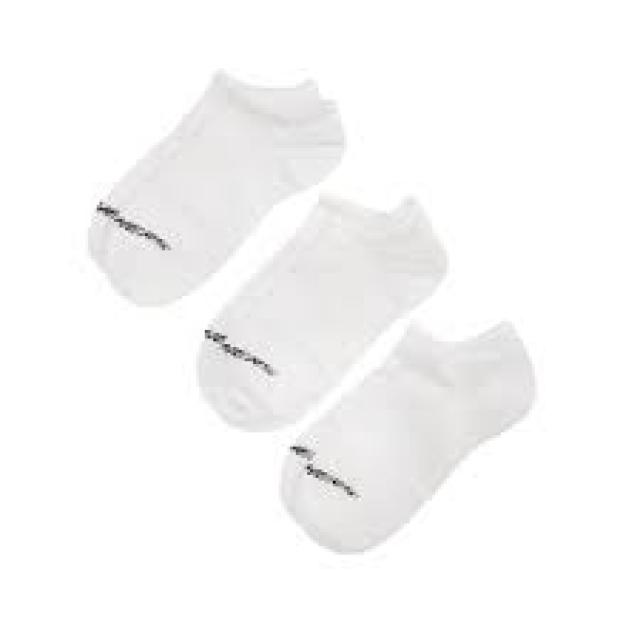sock: (86, 65, 344, 308), (276, 316, 535, 554), (194, 190, 446, 432)
